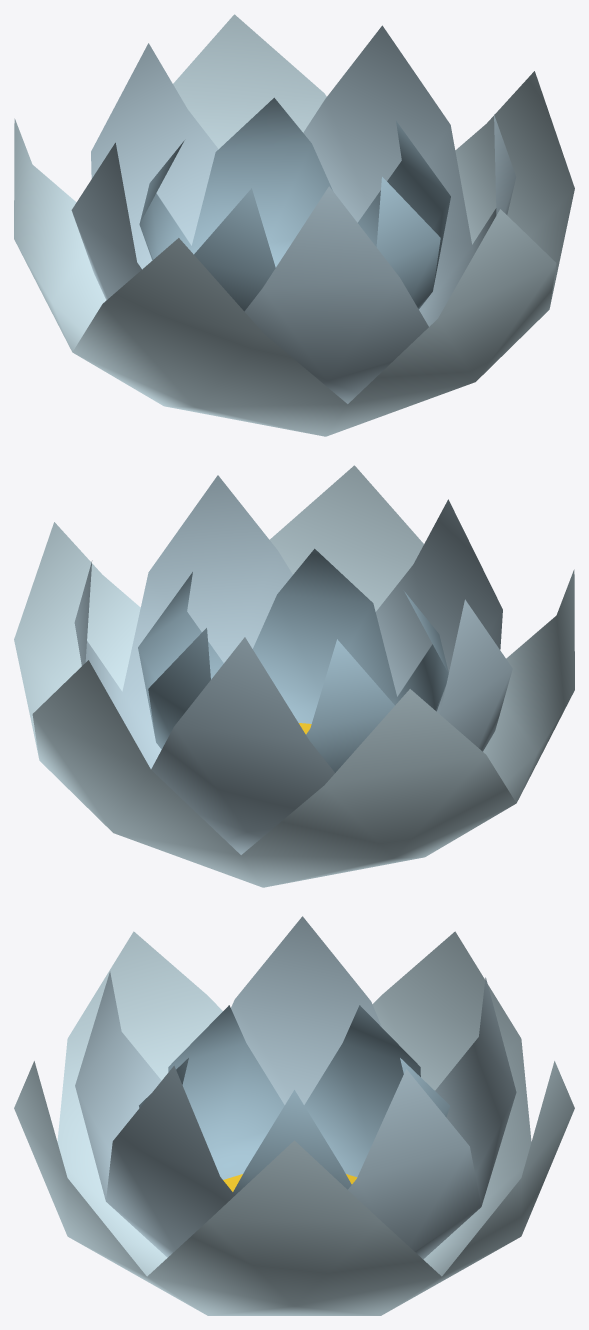
File: lilypadLightBlue.glb
The picture shows the model from 3 angles, top to bottom: view 1: azimuth 30°, elevation 25°; view 2: azimuth 150°, elevation 25°; view 3: azimuth 270°, elevation 25°; orthographic projection. The views are drawn at different scales.
Visible parts, largest first — view 1: LilyPadLightBlue; view 2: LilyPadLightBlue; view 3: LilyPadLightBlue.
Boxes of the visible parts, x1,y1,x2,y2 form: LilyPadLightBlue: (14, 14, 574, 436); LilyPadLightBlue: (14, 465, 574, 887); LilyPadLightBlue: (14, 916, 574, 1315).
Size of the model in its own units: 0.7204 by 0.3929 by 0.751.
Materials: 2 (2 with a texture image).
